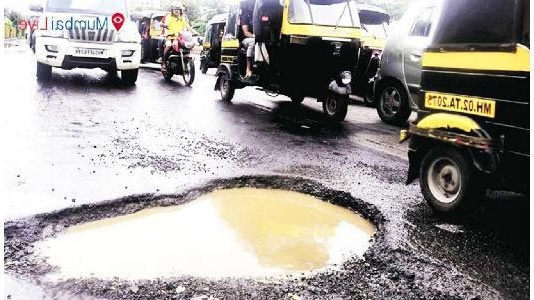pothole: (2, 172, 390, 300)
